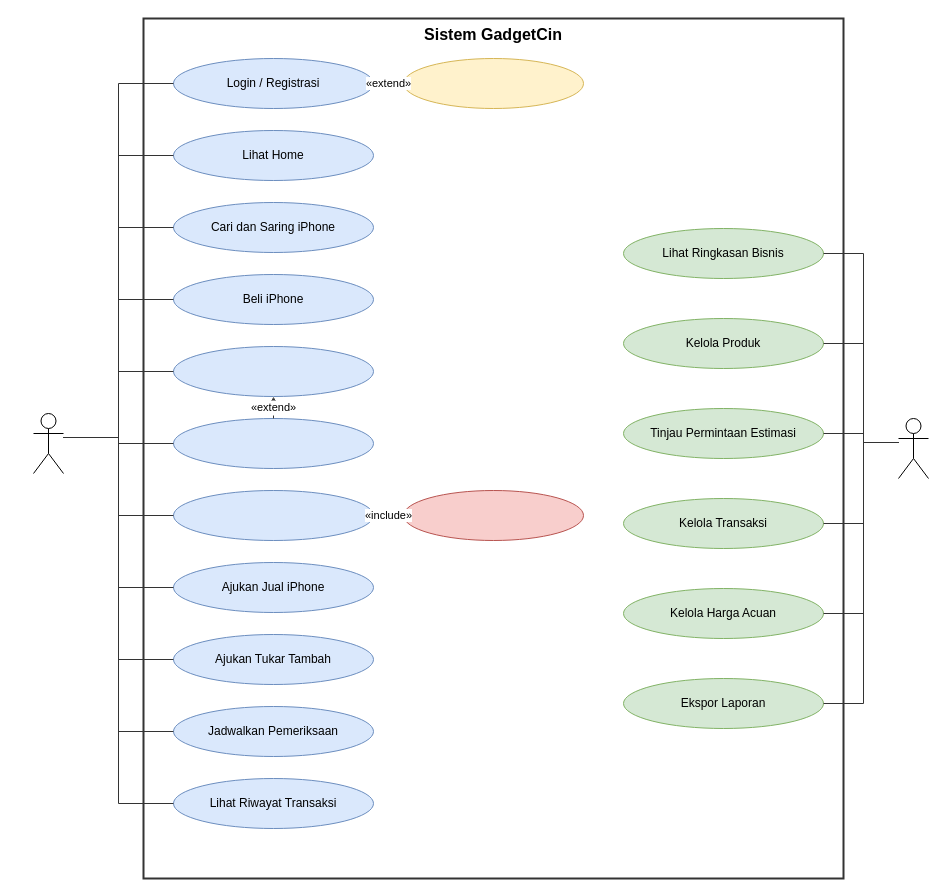
Image size: 951x896. Some labels were removed from this diagram. Here are the shapes that lost their labels. From the top down, the centre of each, then its label:
the point at 493,83: Login dengan Google
the point at 273,371: Input Spesifikasi iPhone
the point at 48,443: Pengguna
the point at 273,443: Unggah Foto iPhone
the point at 913,448: Admin
the point at 273,515: Lihat Hasil Estimasi
the point at 493,515: Hitung Estimasi Harga
